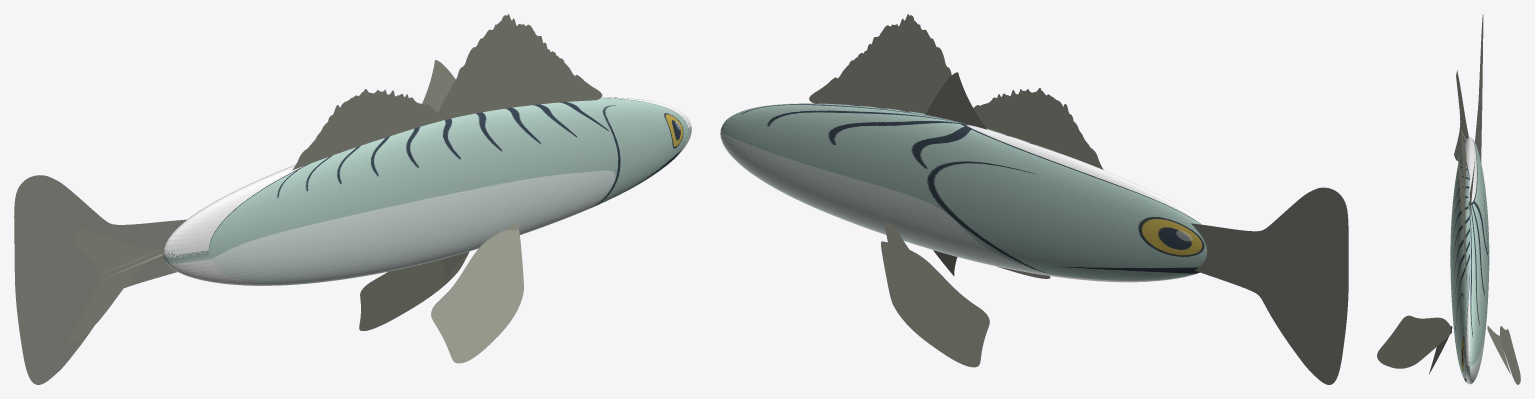
File: simplefish3.glb
3 renders of one model, left to right at view 1: azimuth 30°, elevation 25°; view 2: azimuth 150°, elevation 25°; view 3: azimuth 270°, elevation 25°, orthographic. The views are drawn at different scales.
Visible parts, largest first — view 1: body, back_fin_2, top_fin_2, side_fin_2, back_fin_1, top_fin_1; view 2: body, back_fin_2, top_fin_2, side_fin_2, top_fin_1, side_fin_1; view 3: body, side_fin_2, top_fin_2, back_fin_2, back_fin_1, side_fin_1.
Boxes of the visible parts, x1,y1,x2,y2 form: body: [163, 97, 691, 285]; back_fin_2: [14, 175, 186, 384]; top_fin_2: [292, 14, 602, 170]; side_fin_2: [359, 228, 523, 363]; back_fin_1: [67, 229, 162, 343]; top_fin_1: [422, 60, 455, 112]; body: [720, 103, 1207, 282]; back_fin_2: [1191, 187, 1348, 384]; top_fin_2: [809, 14, 1103, 169]; side_fin_2: [881, 241, 1050, 367]; top_fin_1: [925, 72, 986, 129]; side_fin_1: [885, 222, 957, 276]; body: [1450, 137, 1489, 384]; side_fin_2: [1377, 315, 1520, 384]; top_fin_2: [1457, 129, 1466, 283]; back_fin_2: [1475, 15, 1483, 162]; back_fin_1: [1454, 70, 1468, 160]; side_fin_1: [1429, 326, 1510, 374].
Bounding box in the file's own units: 86.07 × 39.2 × 19.13.
7 materials, 1 textured.
